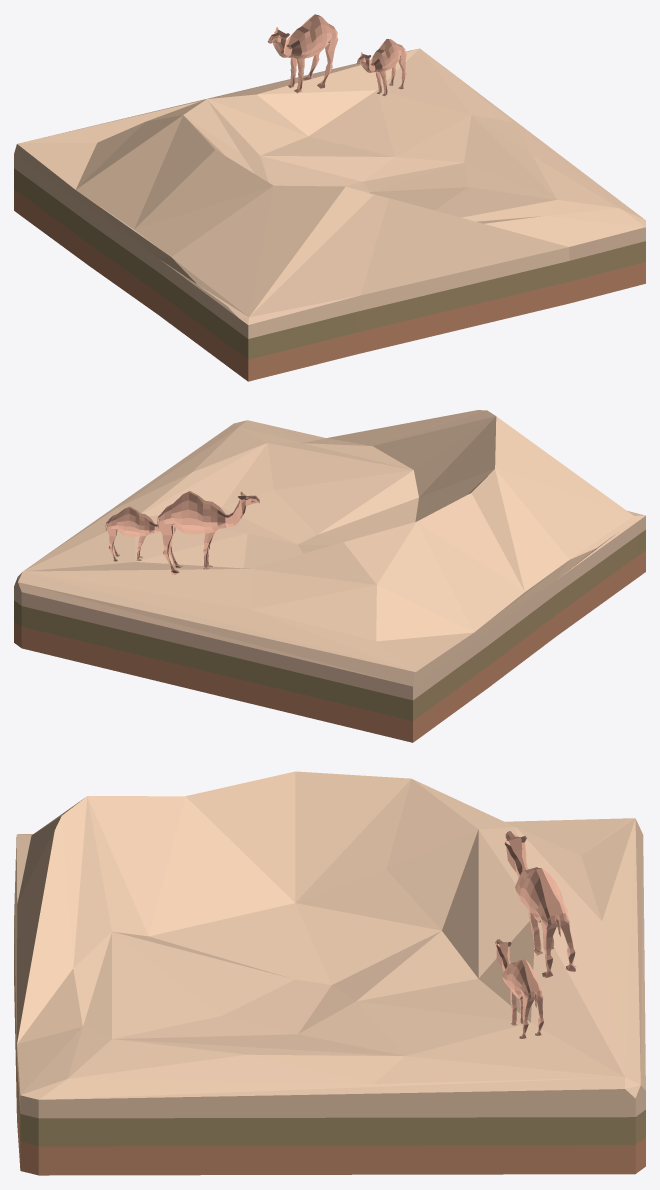
The model's file is 11_Erg.fbx.
3 views of the same model, one above another, from view 1: azimuth 30°, elevation 25°; view 2: azimuth 150°, elevation 25°; view 3: azimuth 270°, elevation 25° (orthographic). The views are drawn at different scales.
Visible parts, largest first — view 1: 11_Desert_Map; view 2: 11_Desert_Map; view 3: 11_Desert_Map.
Boxes of the visible parts, box(x1,y1,x2,y2) form: 11_Desert_Map: box(14, 14, 645, 381); 11_Desert_Map: box(14, 410, 645, 742); 11_Desert_Map: box(14, 771, 645, 1175).
Bounding box in the file's own units: 0.9008 × 0.3444 × 0.9056.
